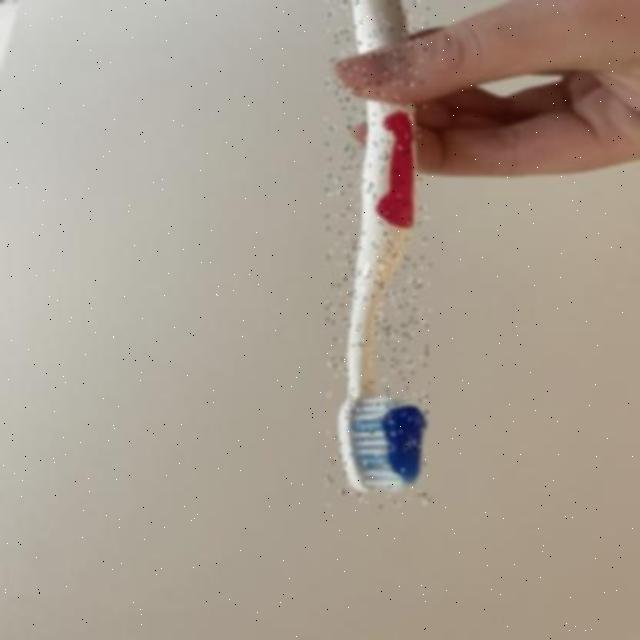toothbrush: (326, 0, 430, 508)
